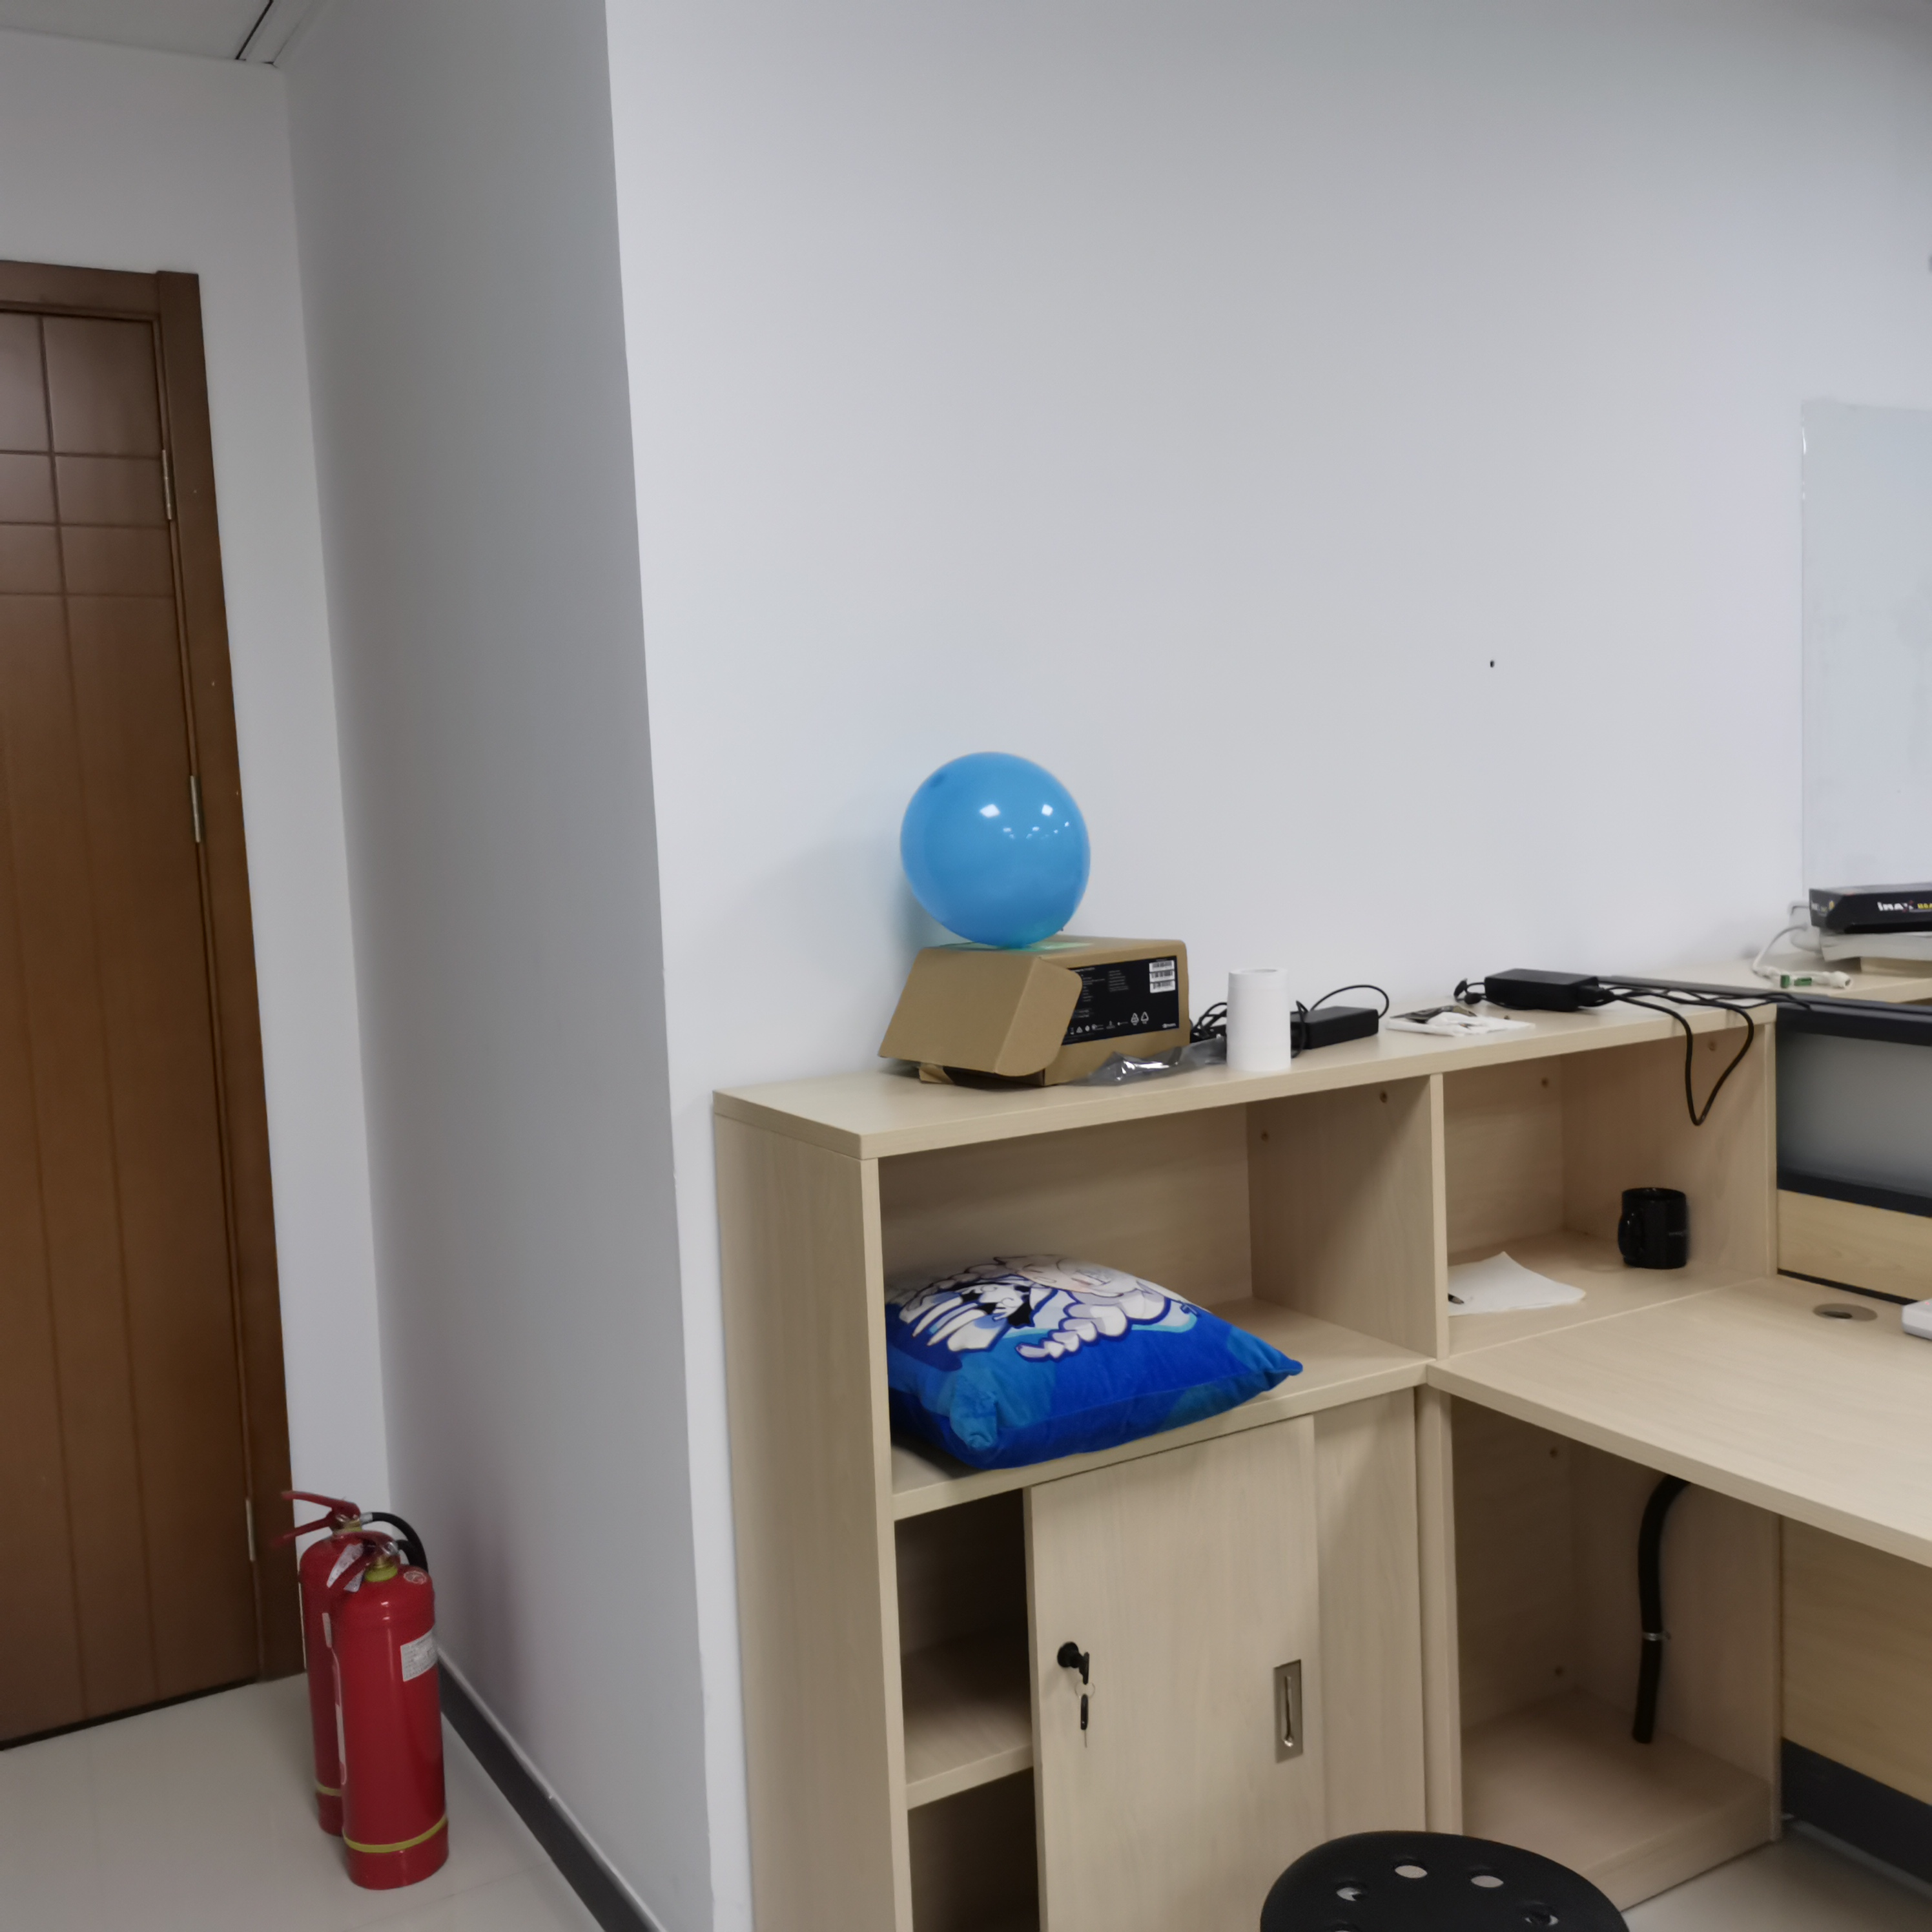balloon: (899, 750, 1090, 948)
